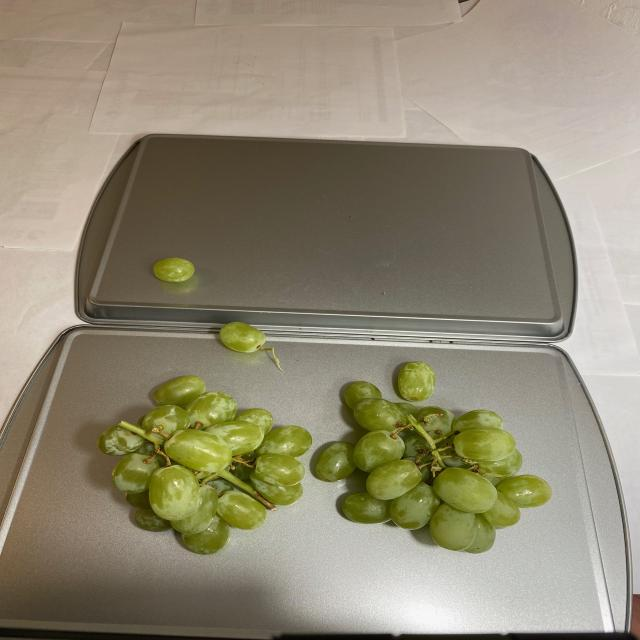grapes: (94, 363, 558, 560), (213, 320, 273, 360), (144, 255, 200, 284)
